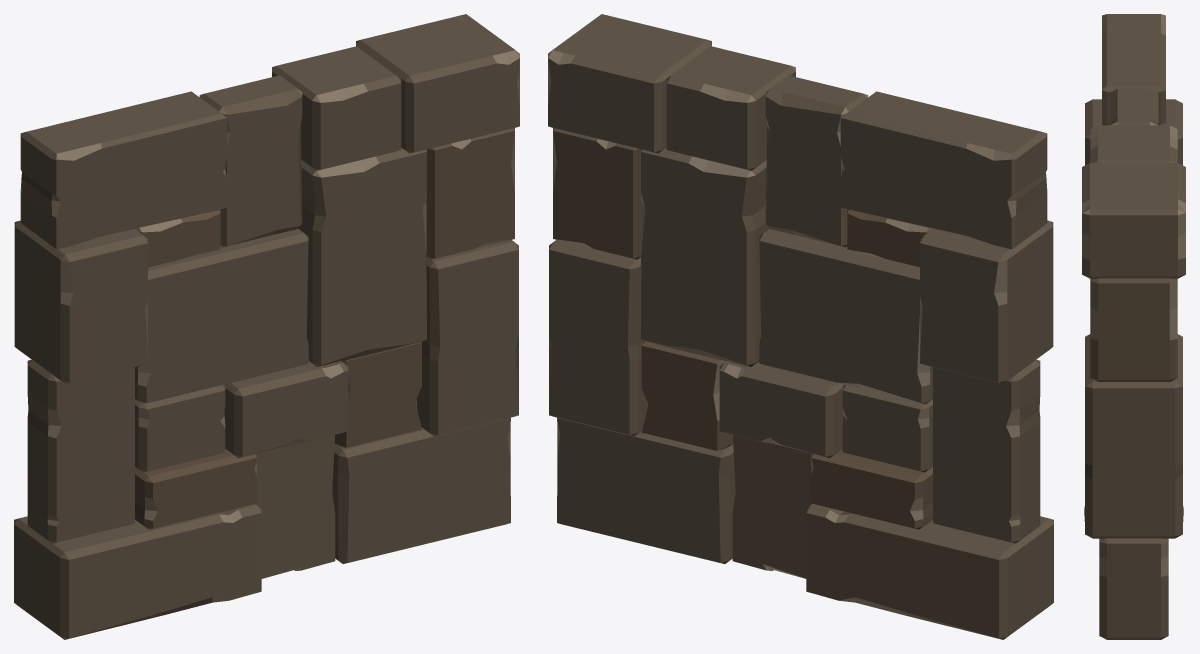
Rendered from stone_wall.fbx.
3 renders of one model, left to right at view 1: azimuth 30°, elevation 25°; view 2: azimuth 150°, elevation 25°; view 3: azimuth 270°, elevation 25°, orthographic. The views are drawn at different scales.
Visible parts, largest first — view 1: Wall_Modular; view 2: Wall_Modular; view 3: Wall_Modular.
Part boxes in pixels (x1,y1,x2,y2): Wall_Modular: (14,14,519,639); Wall_Modular: (548,14,1053,639); Wall_Modular: (1082,14,1185,639).
Bounding box in the file's own units: 200 × 201 × 43.81.
